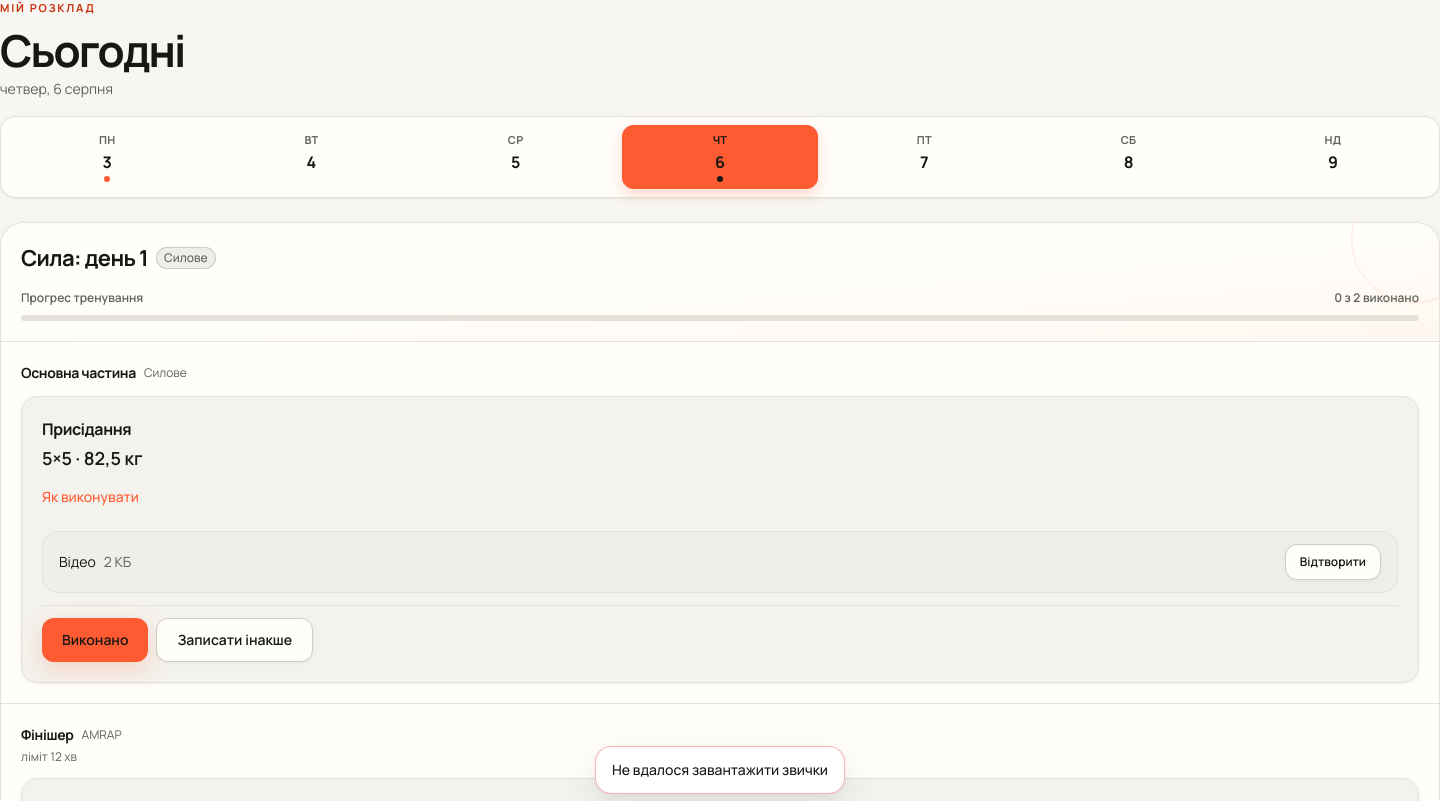
Scenario: ClientHomePage («Сьогодні») › re-queries the tapped day on the week strip
Expected: the heading "Сила: день 1" is shown, [21, 243, 148, 273]
Click the button with aria-label "Понеділок, 3 серпня" at (107,157), box [9, 125, 205, 189]
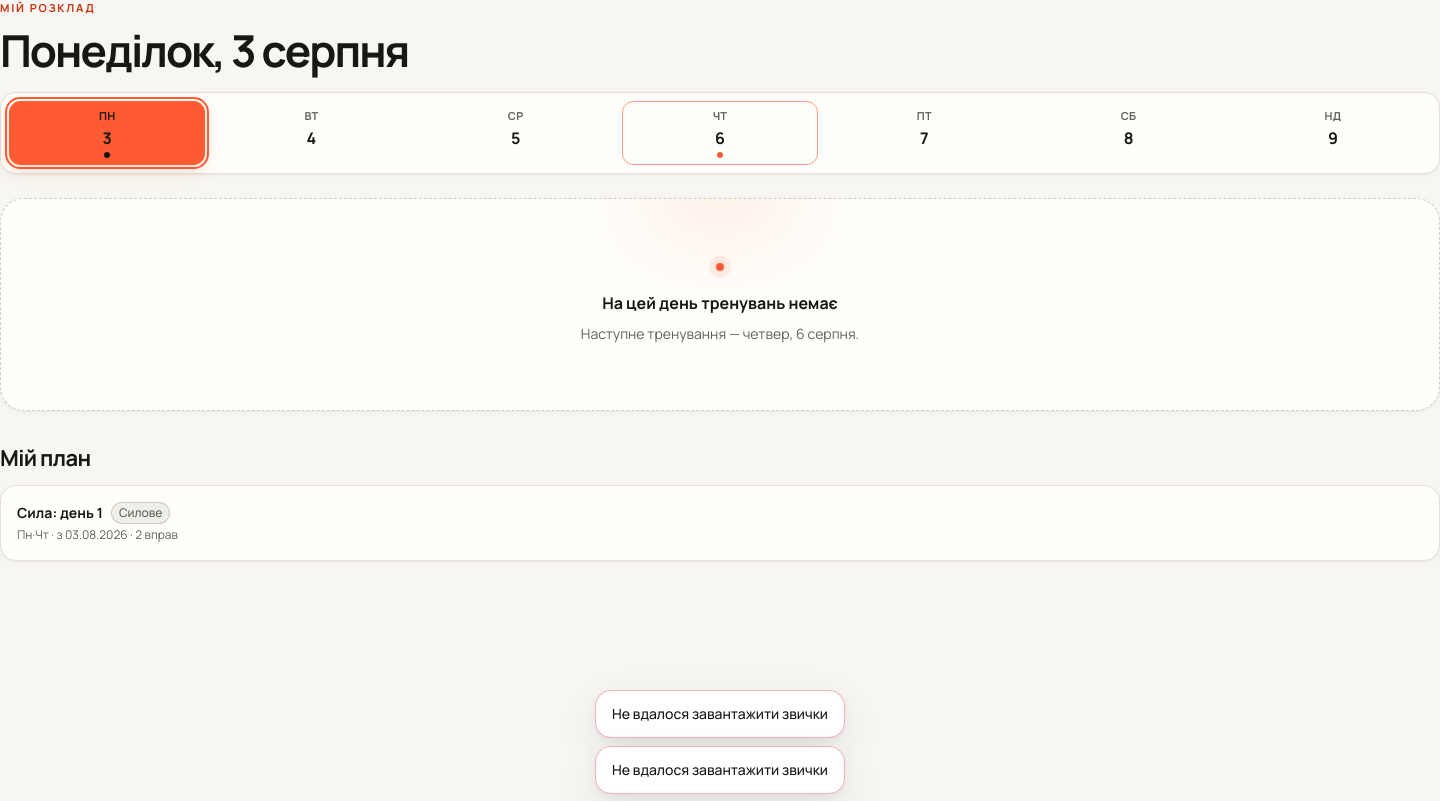
Expected: the heading "Понеділок, 3 серпня" is shown, [0, 20, 408, 80]
Expected: the text "На цей день тренувань немає" is shown, [602, 292, 838, 314]
